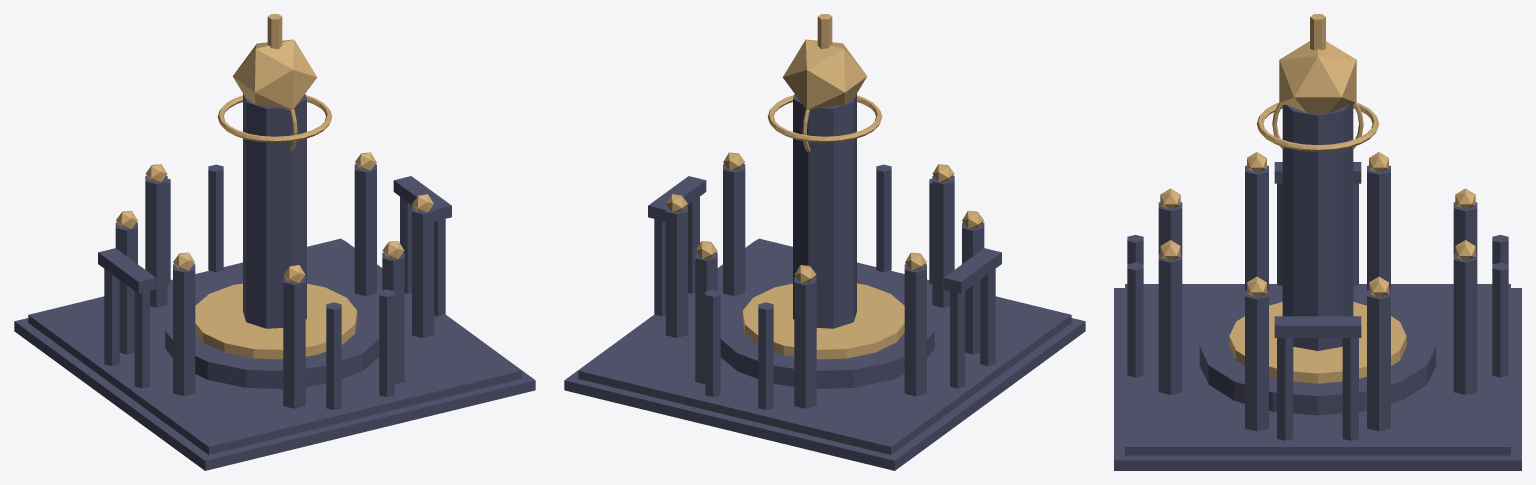
3 renders of one model, left to right at view 1: azimuth 30°, elevation 25°; view 2: azimuth 150°, elevation 25°; view 3: azimuth 270°, elevation 25°, orthographic. The views are drawn at different scales.
Parts seen in each view (by area): view 1: stone, gold; view 2: stone, gold; view 3: stone, gold.
Part boxes in pixels (left/top/right/bottom): stone: left=14, top=94, right=535, bottom=470; gold: left=116, top=14, right=433, bottom=359; stone: left=564, top=94, right=1085, bottom=470; gold: left=666, top=14, right=983, bottom=359; stone: left=1114, top=104, right=1521, bottom=470; gold: left=1160, top=14, right=1475, bottom=383.
Bounding box in the file's own units: 10.35 × 10.3 × 10.35.
